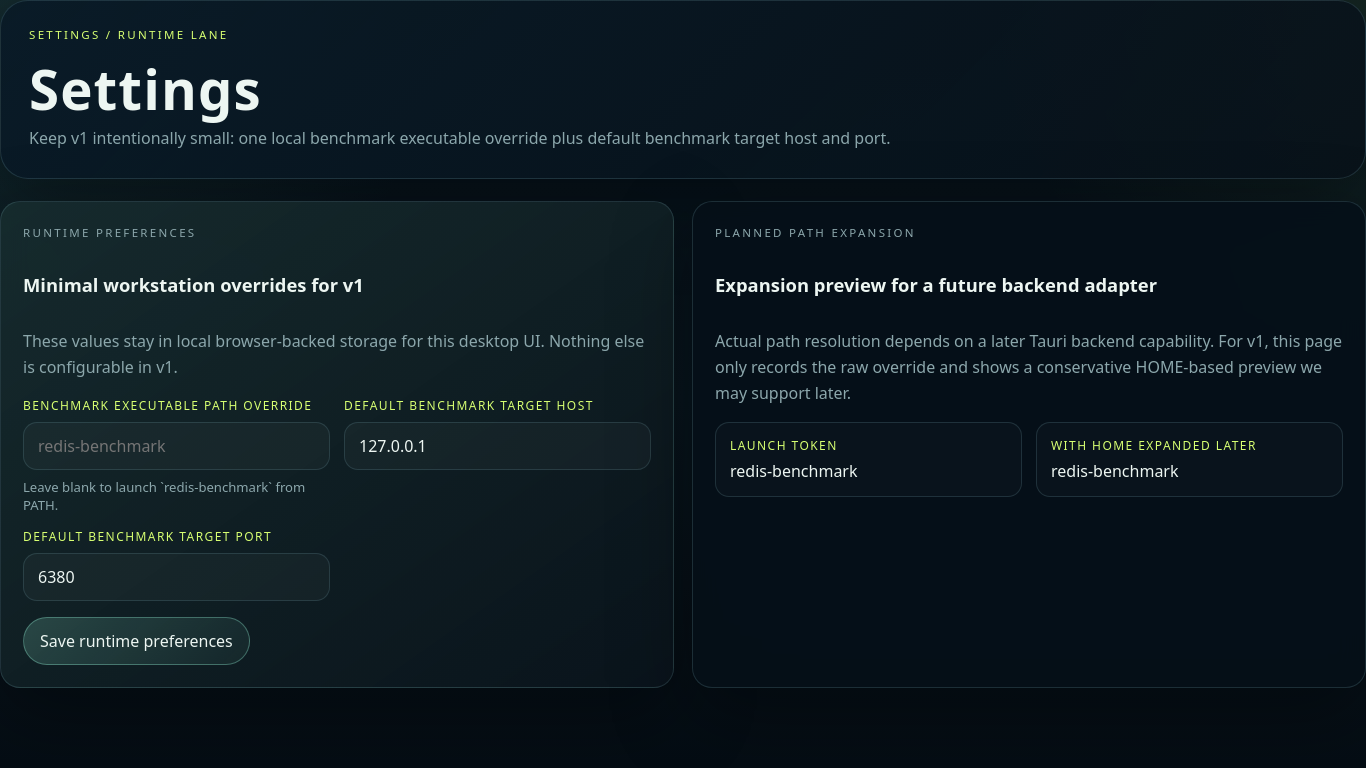
Test: settings page › persists the v1 runtime preferences locally
The image size is (1366, 768).
Type "$HOME/bin/redis-benchmark" into the field labelled "Benchmark executable path override" at (176, 446), box [23,422,330,470]
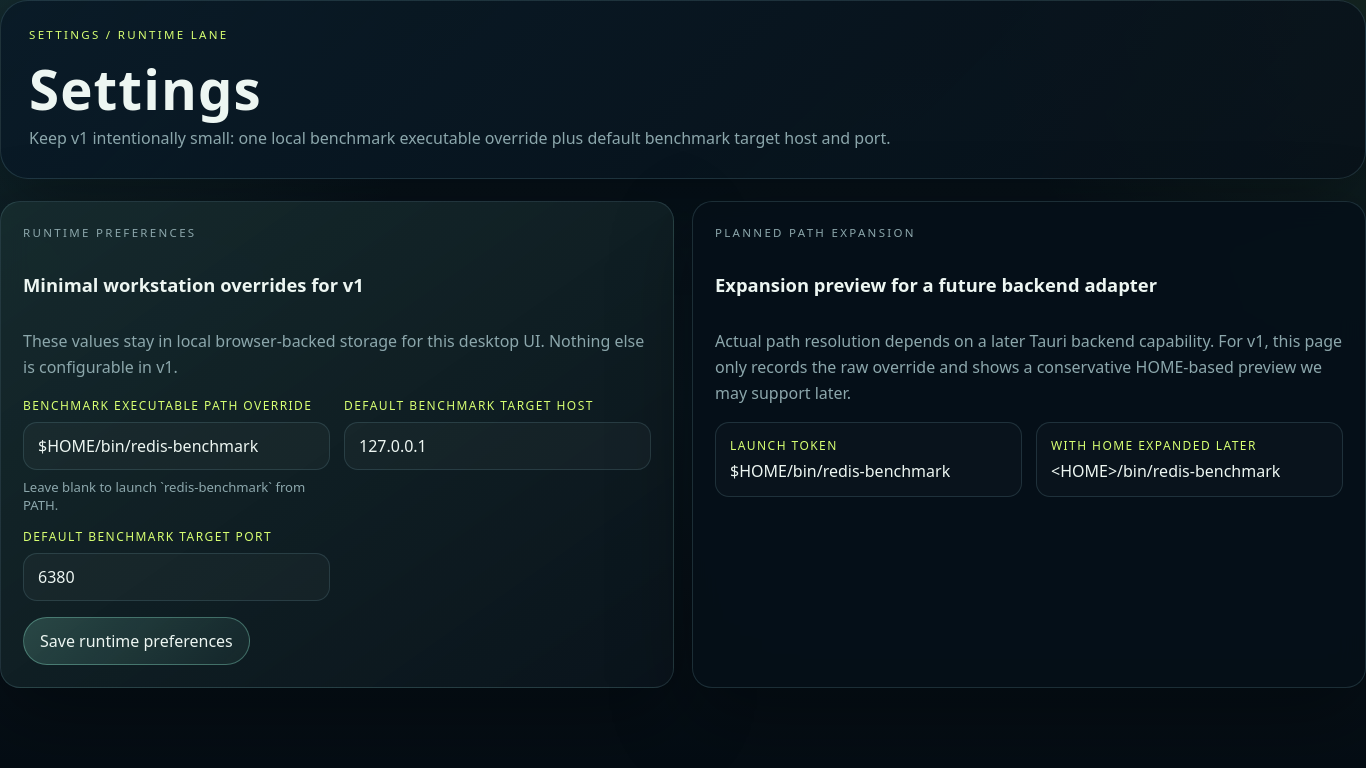
Replace the text in the field labelled "Default benchmark target host" with "10.1.0.9" at (498, 446), box [344,422,651,470]
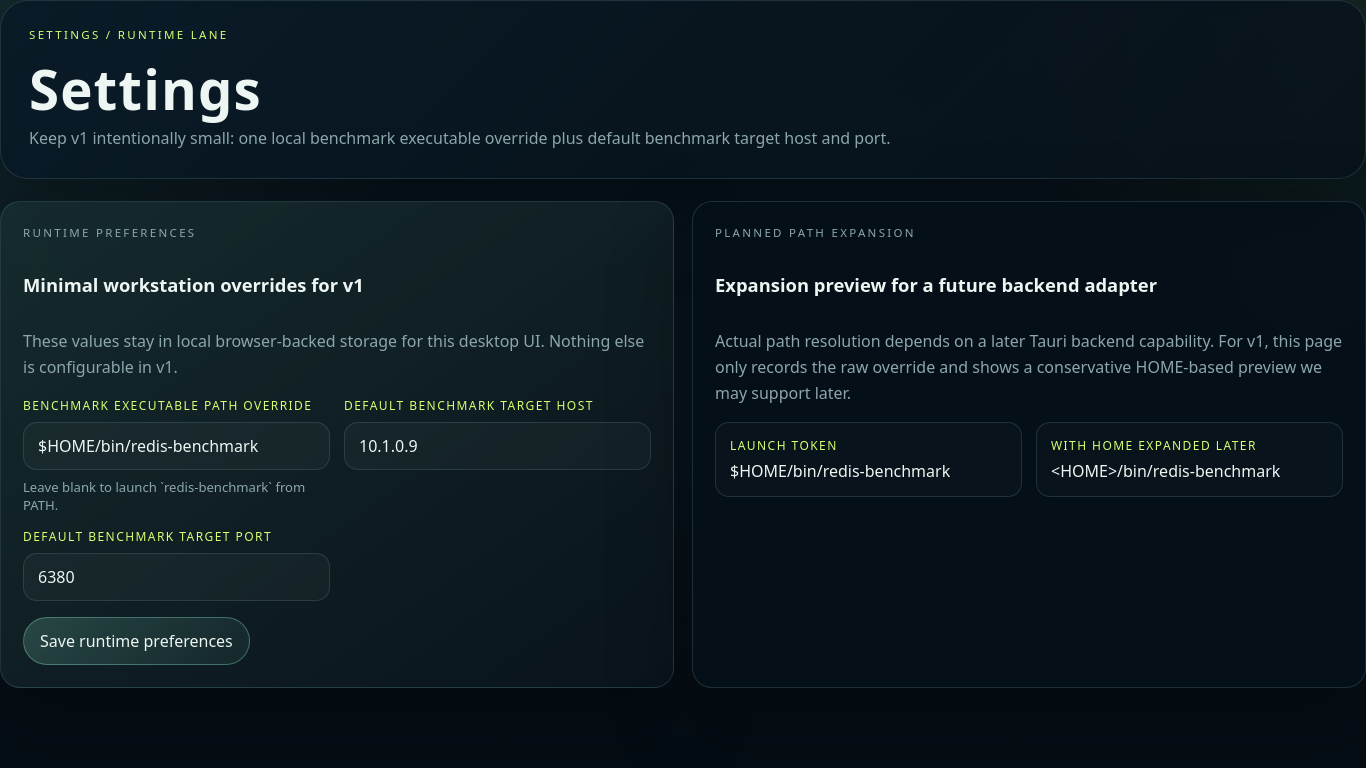
Replace the text in the field labelled "Default benchmark target port" with "6388" at (176, 577), box [23,553,330,601]
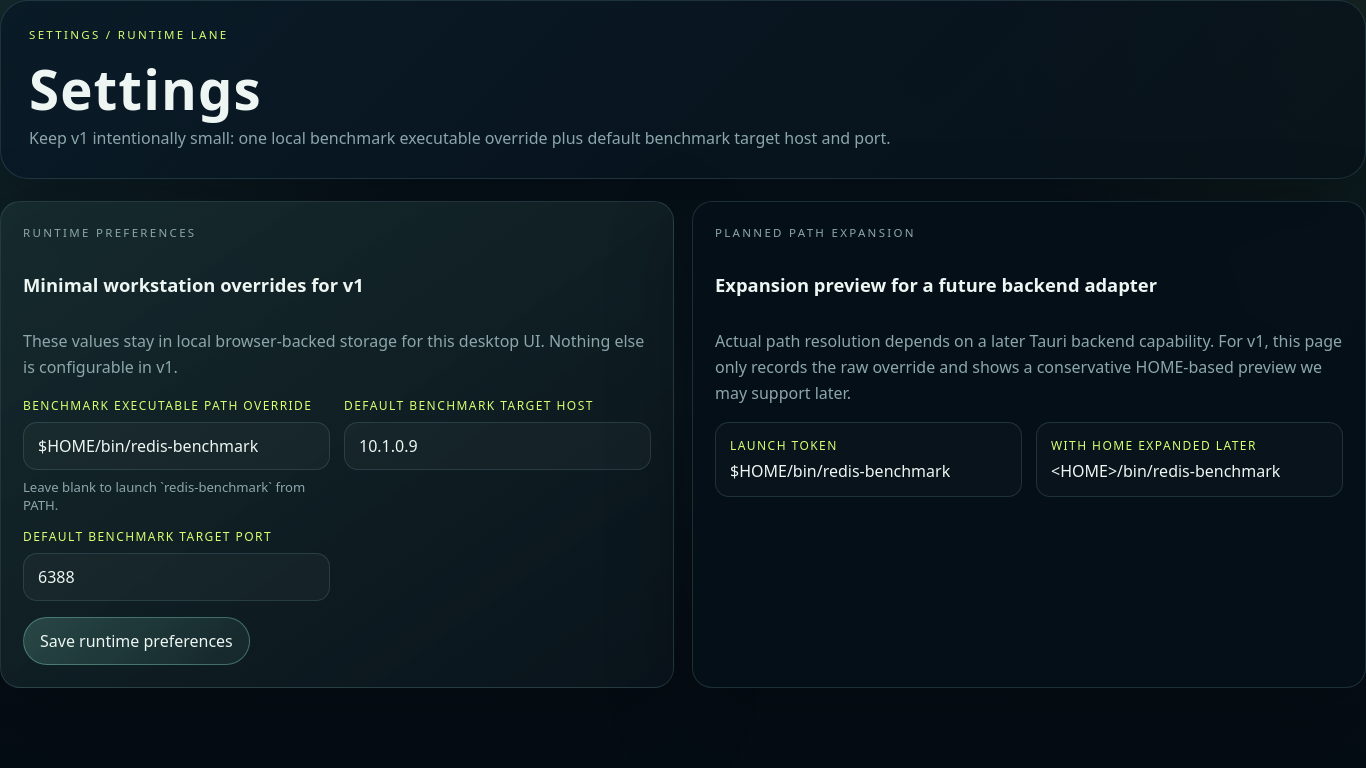
Click the button "Save runtime preferences" at (136, 641), box [23,617,250,665]
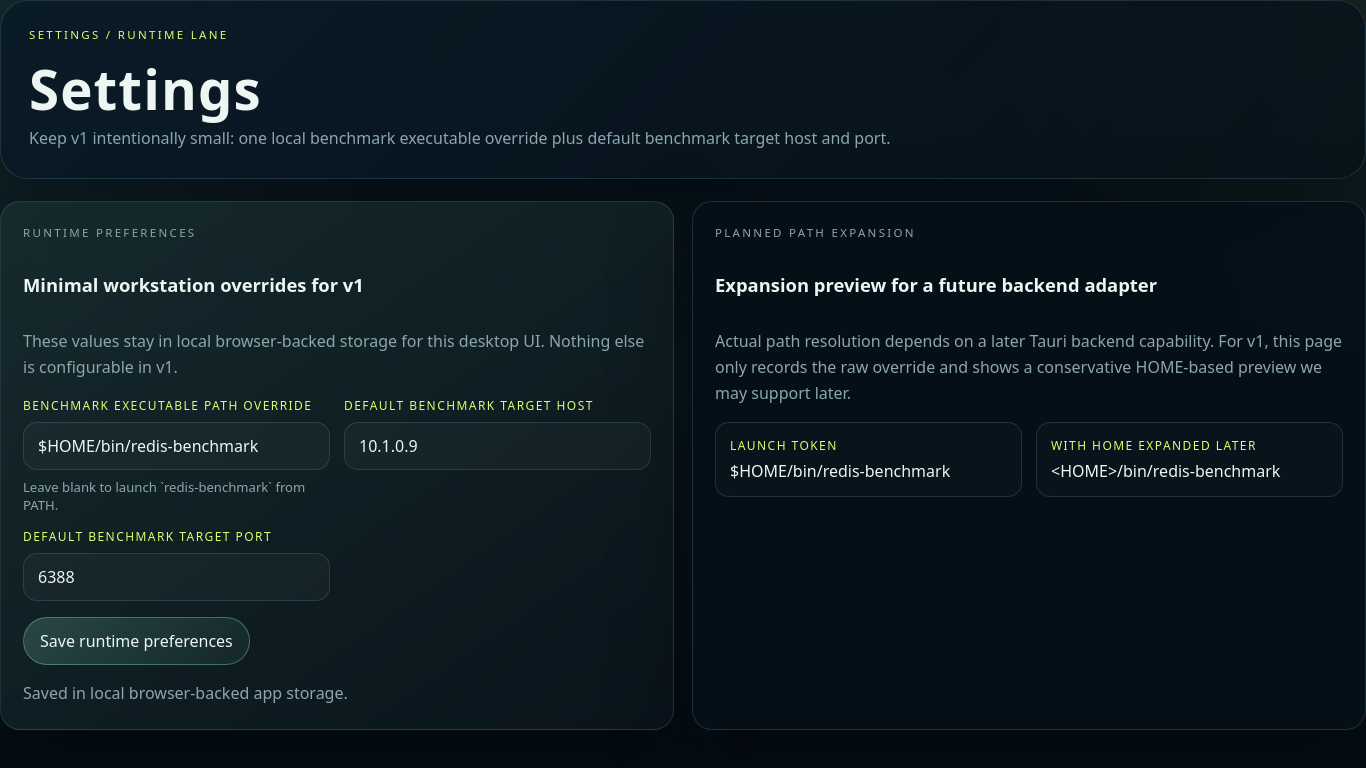
Expected: the text "Saved in local browser-backed app storage." is shown, [23,682,348,704]
